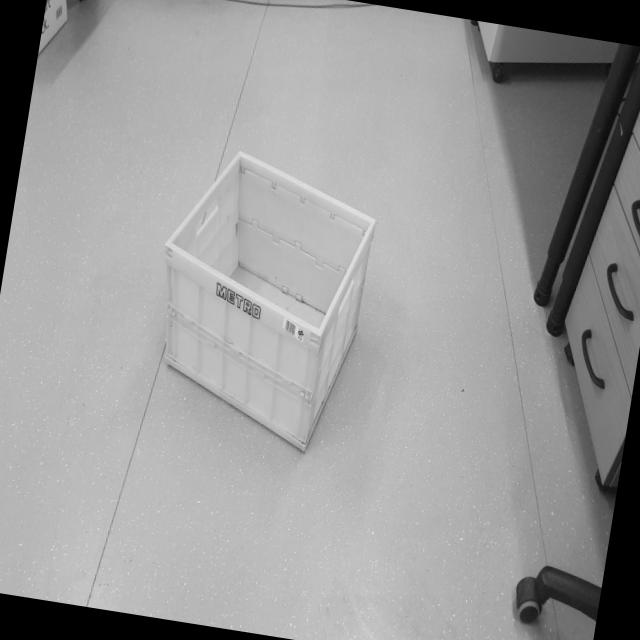box: (118, 121, 400, 488)
